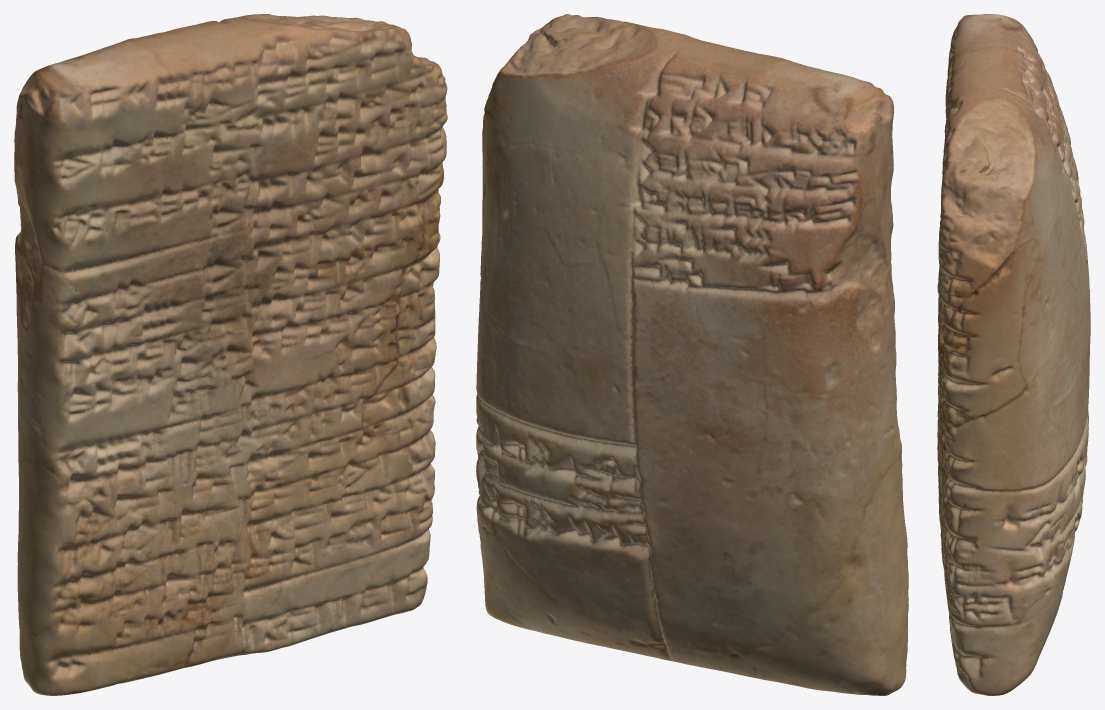
File: cuneiform.glb
3 views of the same model, side by side, from view 1: azimuth 30°, elevation 25°; view 2: azimuth 150°, elevation 25°; view 3: azimuth 270°, elevation 25° (orthographic). The views are drawn at different scales.
Parts seen in each view (by area): view 1: Object_2; view 2: Object_2; view 3: Object_2.
Boxes of the visible parts, x1,y1,x2,y2 form: Object_2: (14,14,447,695); Object_2: (476,14,908,695); Object_2: (937,14,1090,695).
Bounding box in the file's own units: 78.18 × 113 × 29.23.
Materials: 1 (1 with a texture image).
